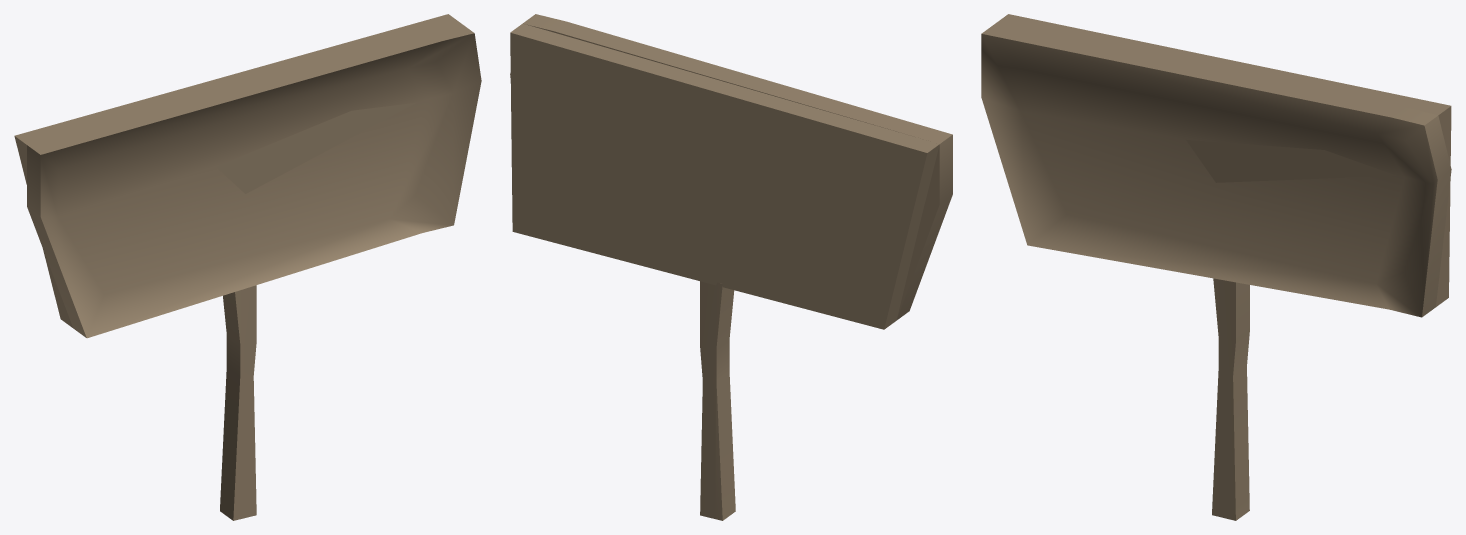
File: sign 2.fbx
3 views of the same model, side by side, from view 1: azimuth 30°, elevation 25°; view 2: azimuth 150°, elevation 25°; view 3: azimuth 330°, elevation 25° (orthographic). The views are drawn at different scales.
Visible parts, largest first — view 1: pCube7; view 2: pCube7; view 3: pCube7.
Boxes of the visible parts, x1,y1,x2,y2 form: pCube7: (14, 14, 481, 520); pCube7: (510, 14, 952, 520); pCube7: (981, 14, 1451, 520).
Bounding box in the file's own units: 18.9 × 18.21 × 2.62.
